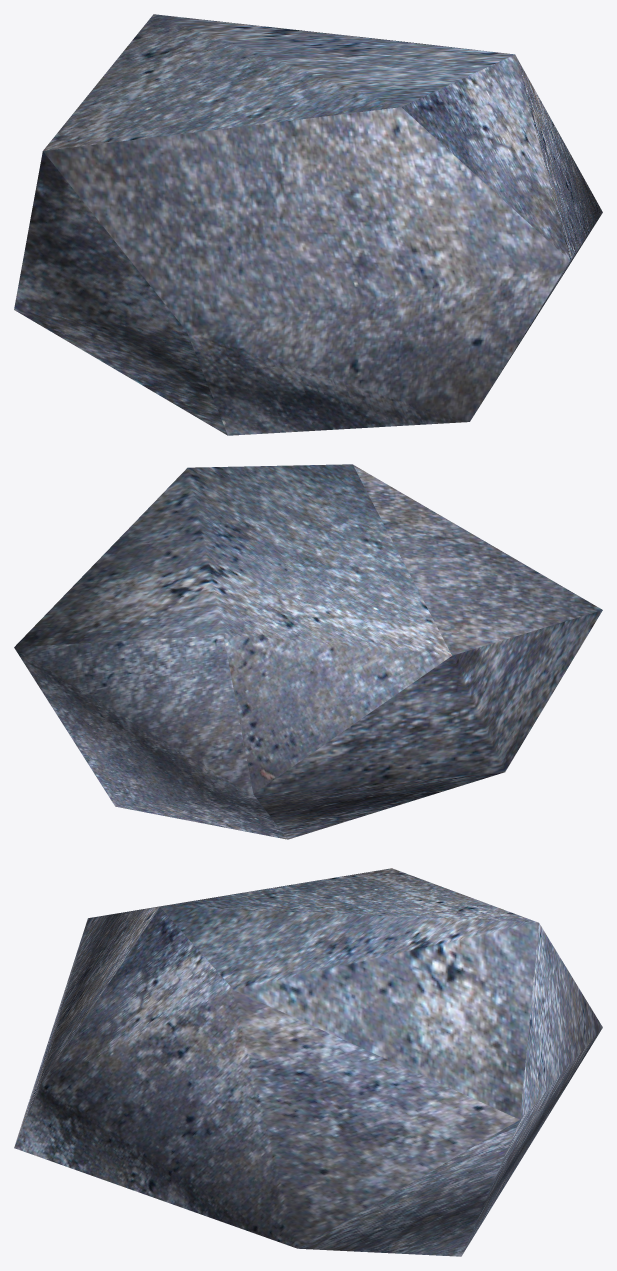
Rendered from Rock4_30.obj.
3 views of the same model, one above another, from view 1: azimuth 30°, elevation 25°; view 2: azimuth 150°, elevation 25°; view 3: azimuth 270°, elevation 25° (orthographic). The views are drawn at different scales.
Visible parts, largest first — view 1: Icosphere; view 2: Icosphere; view 3: Icosphere.
Part boxes in pixels (<box>): Icosphere: <box>14,14,602,435</box>; Icosphere: <box>14,464,602,839</box>; Icosphere: <box>14,868,602,1256</box>.
Bounding box in the file's own units: 3.04 × 1.62 × 2.93.
